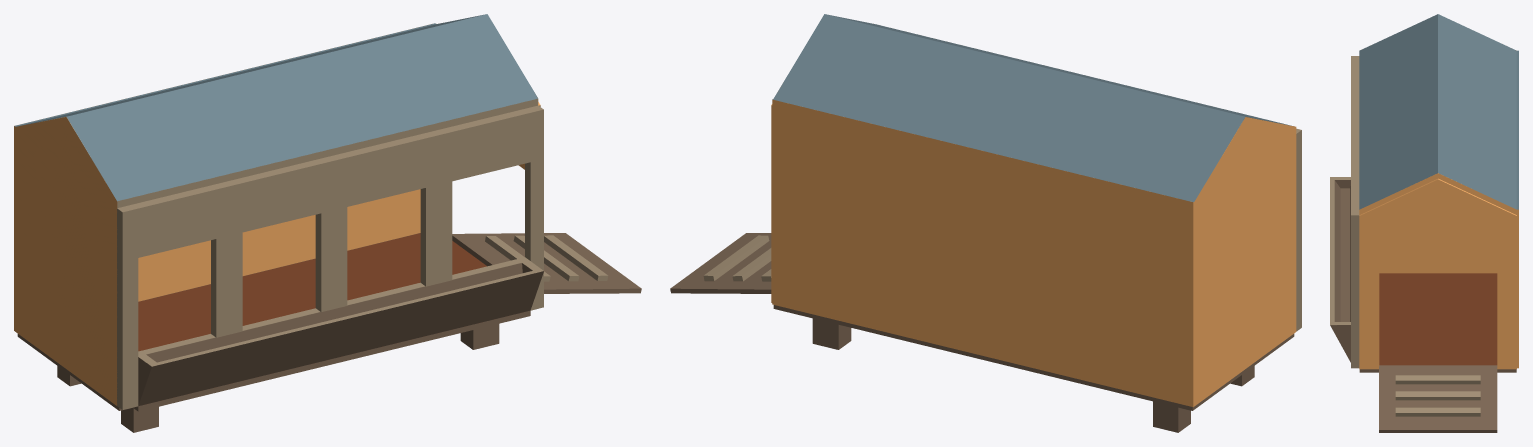
Rendered from Chicken_coop.glb.
The picture shows the model from 3 angles, left to right: view 1: azimuth 30°, elevation 25°; view 2: azimuth 150°, elevation 25°; view 3: azimuth 270°, elevation 25°; orthographic projection. The views are drawn at different scales.
Parts seen in each view (by area): view 1: Chicken coop; view 2: Chicken coop; view 3: Chicken coop.
Boxes of the visible parts, x1,y1,x2,y2 form: Chicken coop: (14, 14, 641, 432); Chicken coop: (670, 14, 1301, 432); Chicken coop: (1330, 14, 1518, 432).
Size of the model in its own units: 2.44 by 1.28 by 0.9608.
